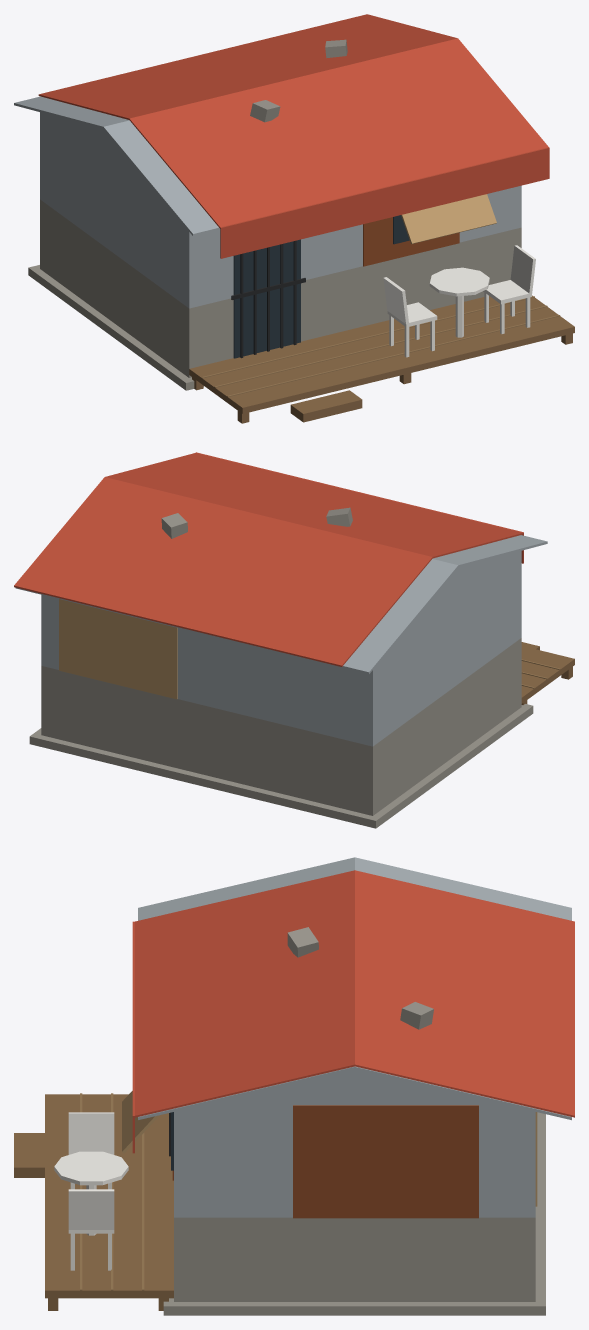
Rendered from BAY_I_TarpShack_L.glb.
3 renders of one model, top to bottom at view 1: azimuth 30°, elevation 25°; view 2: azimuth 150°, elevation 25°; view 3: azimuth 270°, elevation 25°, orthographic. The views are drawn at different scales.
Parts seen in each view (by area): view 1: BAY_I_TarpShack_L; view 2: BAY_I_TarpShack_L; view 3: BAY_I_TarpShack_L.
Boxes of the visible parts, x1,y1,x2,y2 form: BAY_I_TarpShack_L: (14,14,574,423); BAY_I_TarpShack_L: (14,452,574,828); BAY_I_TarpShack_L: (14,857,574,1315).
Size of the model in its own units: 4.8 by 2.76 by 5.43.
1 material, 1 textured.
